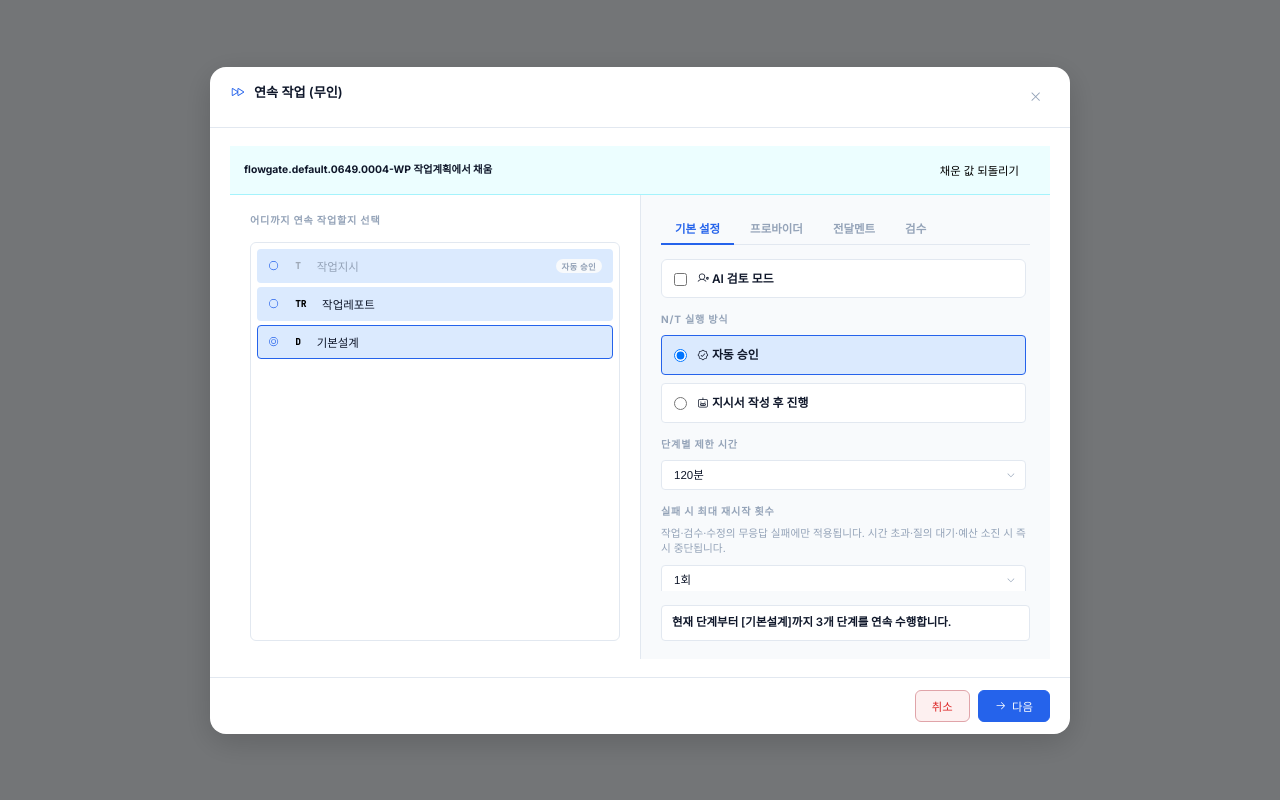
it: ContinuousWorkDialog preset — card order (0649 T#3) › a preview whose keep-workflow is refused for order_differs shows the reason and blocks the start
Expected: the button "다음" is enabled, [978,690,1050,722]
Click the radio button labelled "지시서 작성 후 진행". click: (680, 404)
box: [674,397,687,410]
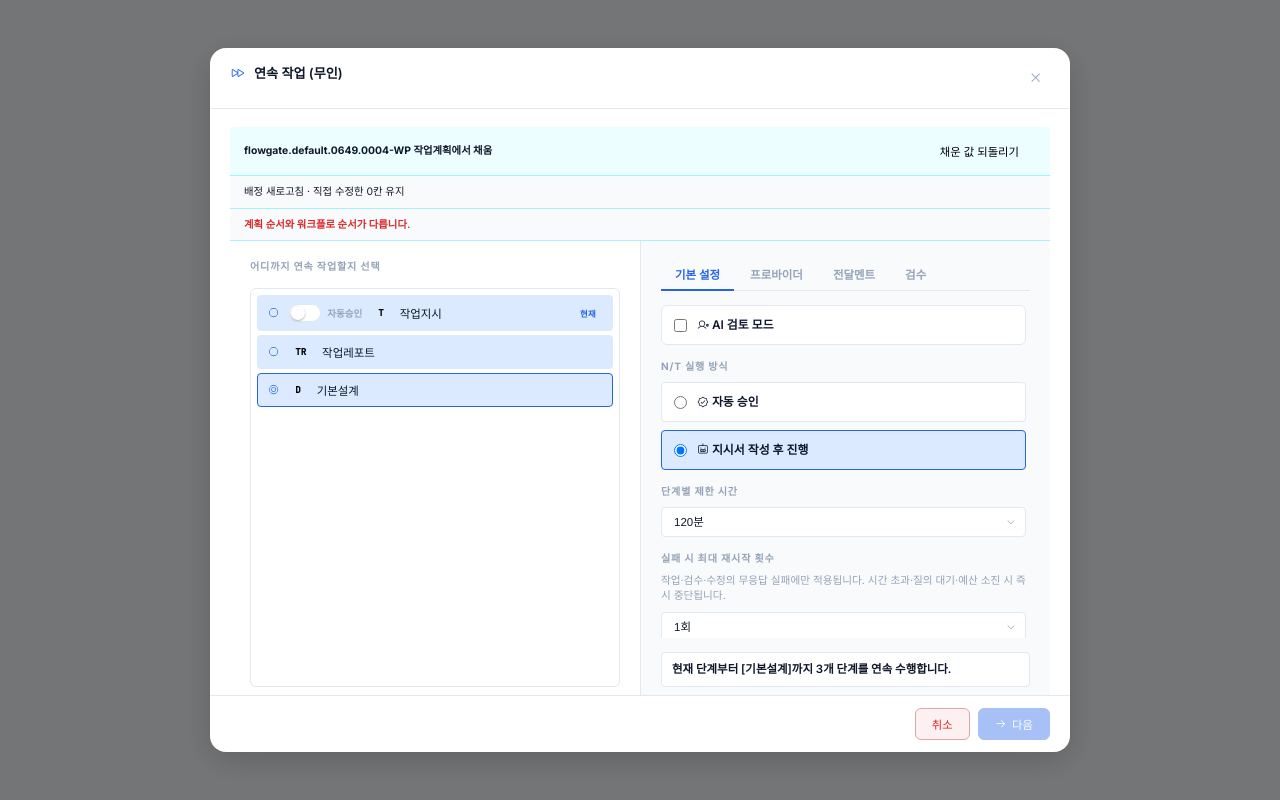
Expected: the text with test id "preset-card-blocker" reads "계획 순서와 워크플로 순서가 다릅니다.", [244,218,410,230]
Expected: the button "다음" is disabled, [978,708,1050,740]
